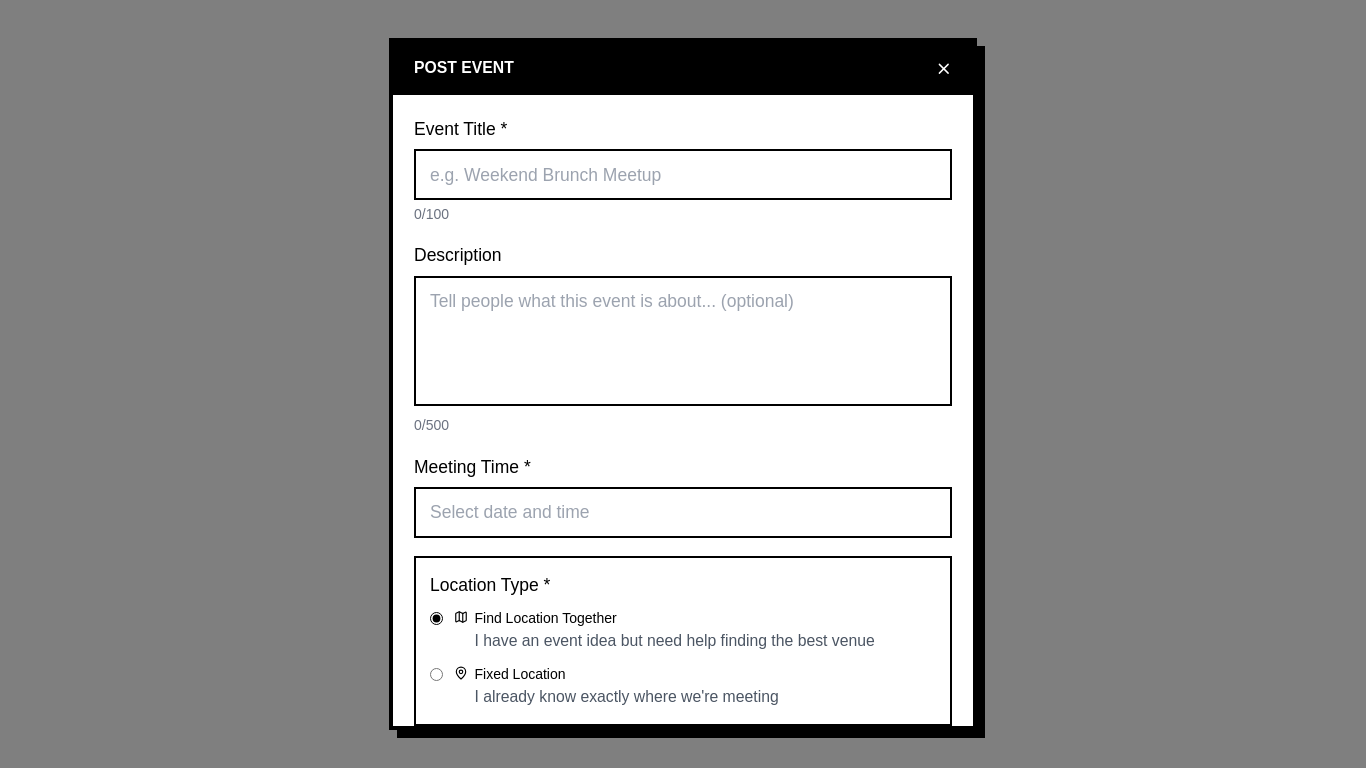
Scenario: PostEventModal › Character Limits › should show character count for title
This screenshot has width=1366, height=768.
Type "Test" into the field with placeholder "e.g. Weekend Brunch Meetup" at [683, 175], box 414,149 -> 952,200
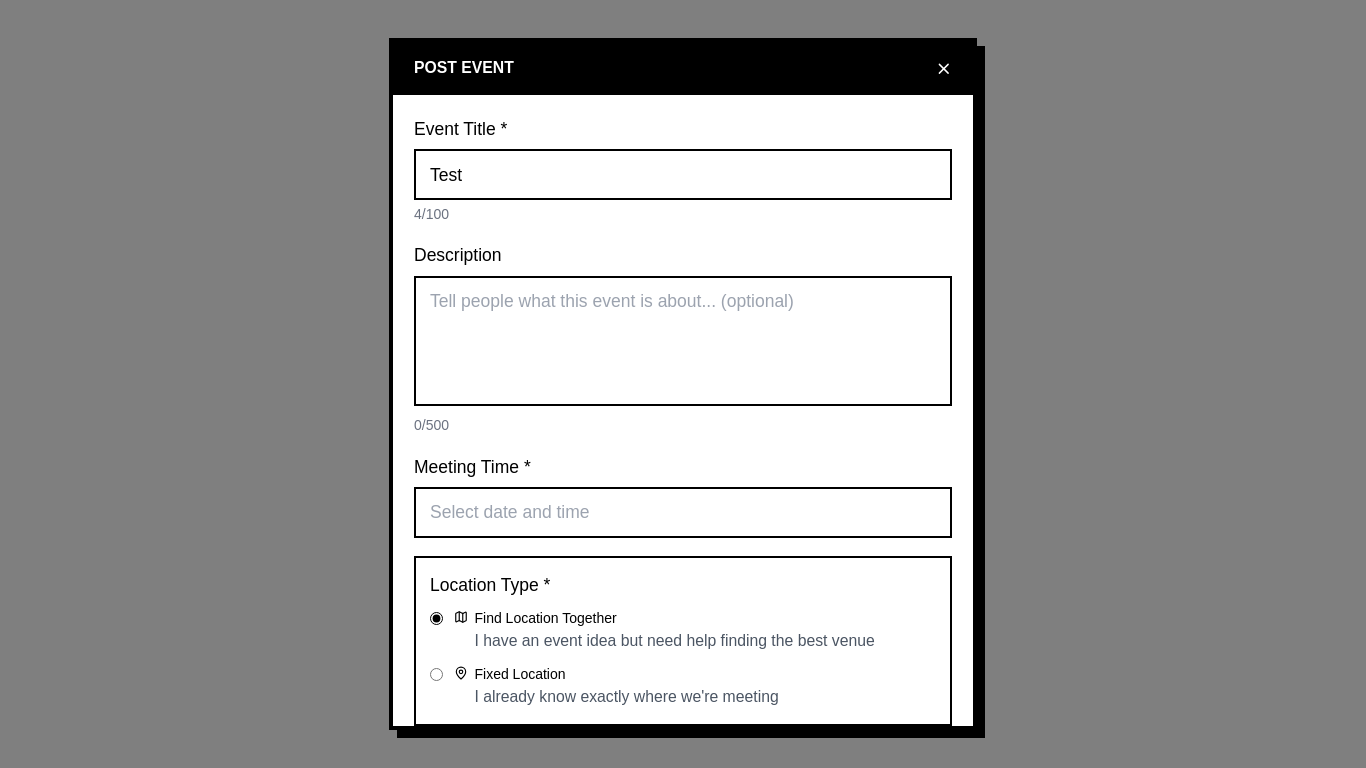
Check: the text "4/100" is shown, box 414,206 -> 449,222
